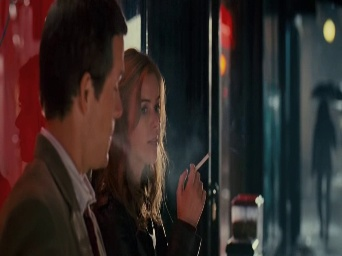smoke: (191, 152, 212, 172)
